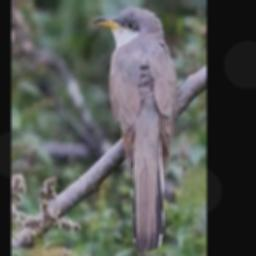Cuckoo: (93, 5, 177, 251)
